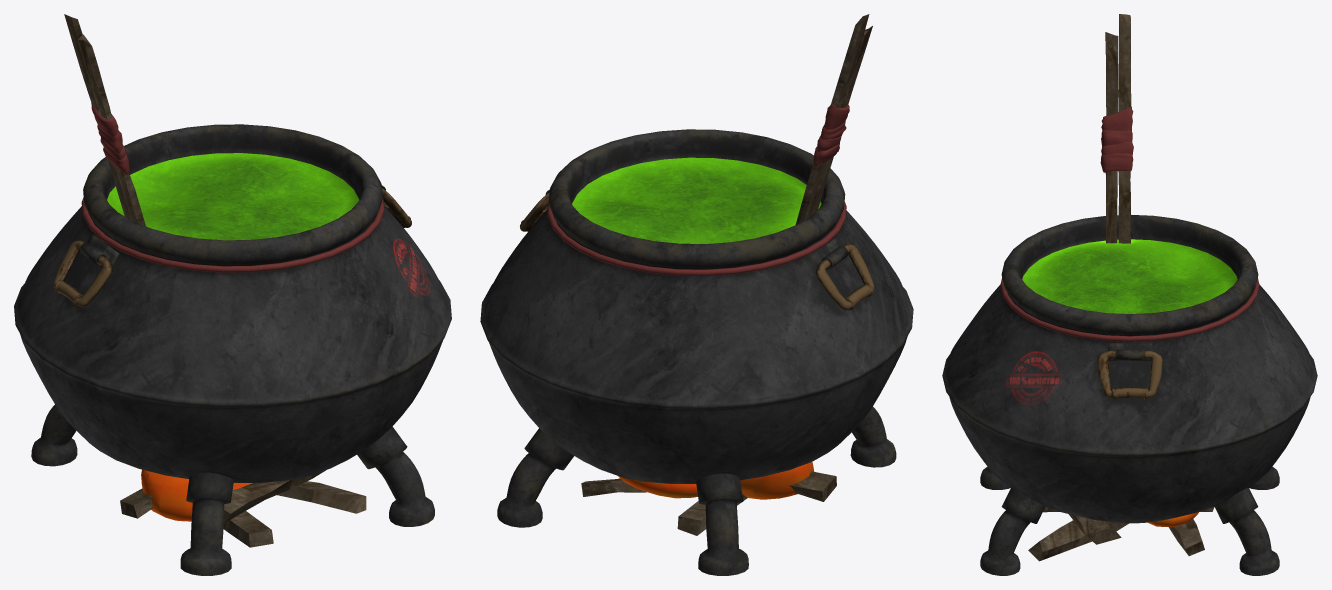
File: caldero.gltf
3 views of the same model, side by side, from view 1: azimuth 30°, elevation 25°; view 2: azimuth 150°, elevation 25°; view 3: azimuth 270°, elevation 25° (orthographic). The views are drawn at different scales.
Parts seen in each view (by area): view 1: Cylinder.003; view 2: Cylinder.003; view 3: Cylinder.003.
Part boxes in pixels (bbox=[...]): Cylinder.003: bbox=[14, 14, 451, 575]; Cylinder.003: bbox=[480, 14, 913, 575]; Cylinder.003: bbox=[942, 14, 1317, 575].
Size of the model in its own units: 9.17 by 11.99 by 9.17.
Materials: 1 (1 with a texture image).
